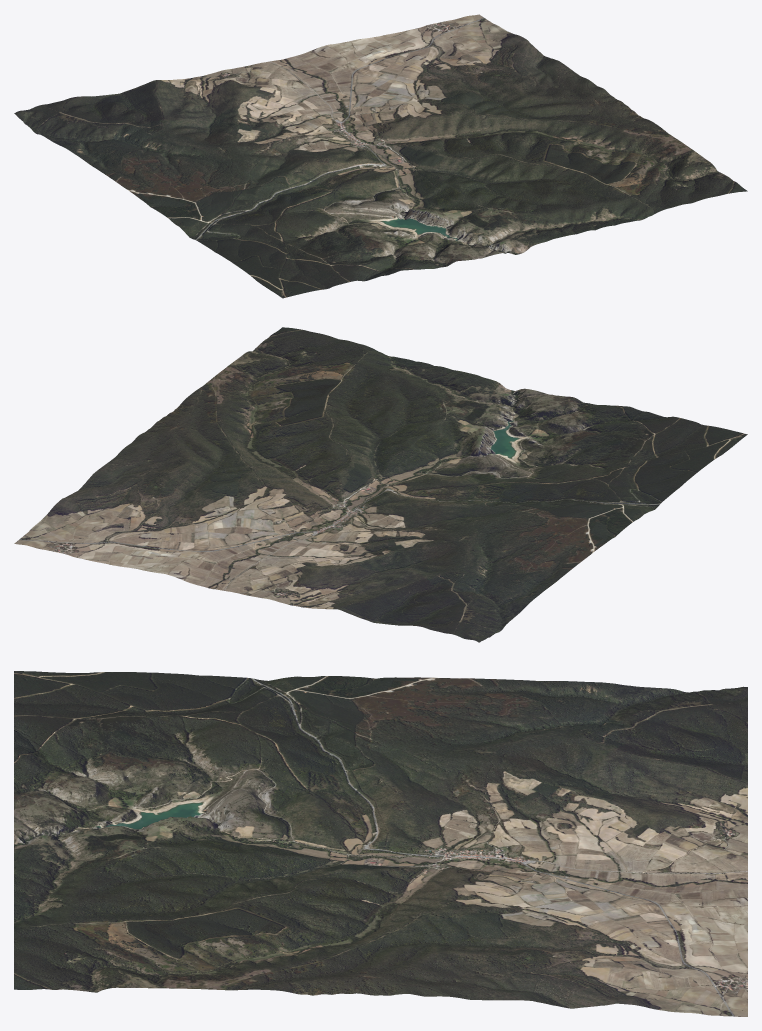
Rendered from overview.glb.
3 renders of one model, top to bottom at view 1: azimuth 30°, elevation 25°; view 2: azimuth 150°, elevation 25°; view 3: azimuth 270°, elevation 25°, orthographic. The views are drawn at different scales.
Visible parts, largest first — view 1: overview; view 2: overview; view 3: overview.
Boxes of the visible parts, x1=… form: overview: x1=14, y1=14, x2=747, y2=298; overview: x1=14, y1=327, x2=747, y2=642; overview: x1=14, y1=671, x2=747, y2=1016.
Size of the model in its own units: 6000 by 323 by 6000.
1 material, 1 textured.
